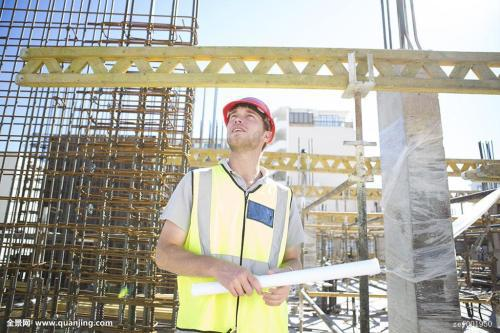helmet: (213, 86, 285, 165)
